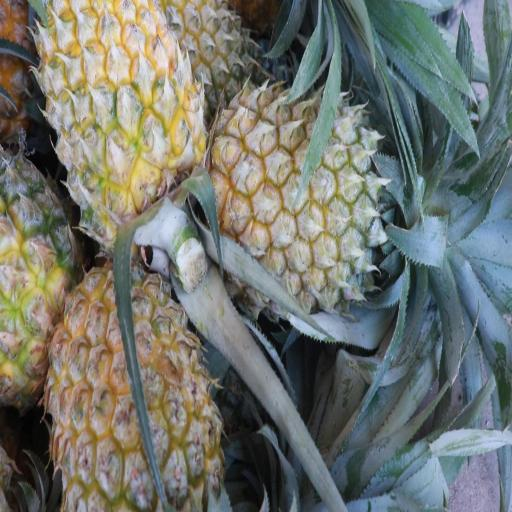------------------------------: (1, 155, 96, 421)
Pineapple - v8 v1: (40, 245, 235, 512), (35, 0, 209, 295), (206, 76, 412, 322)
